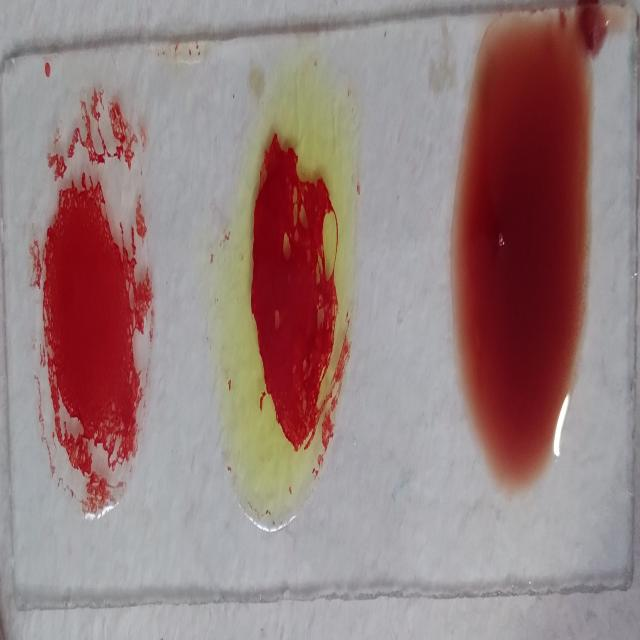B: (220, 62, 348, 548)
D: (29, 90, 152, 534)
